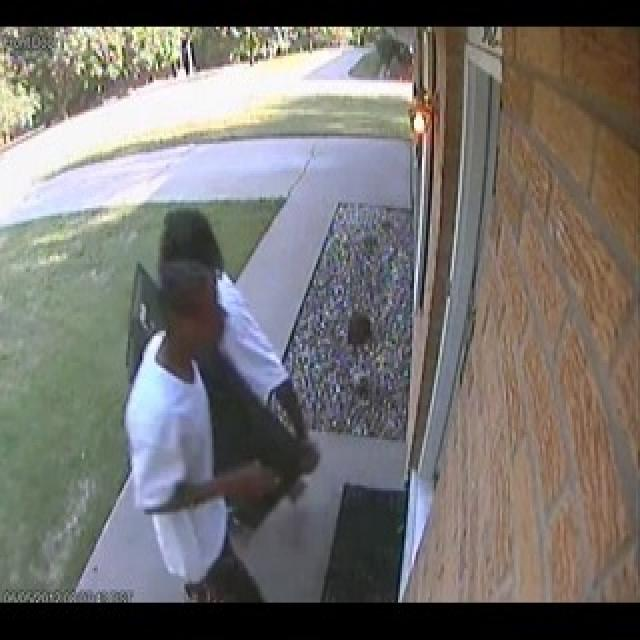burglary: (97, 214, 304, 604)
